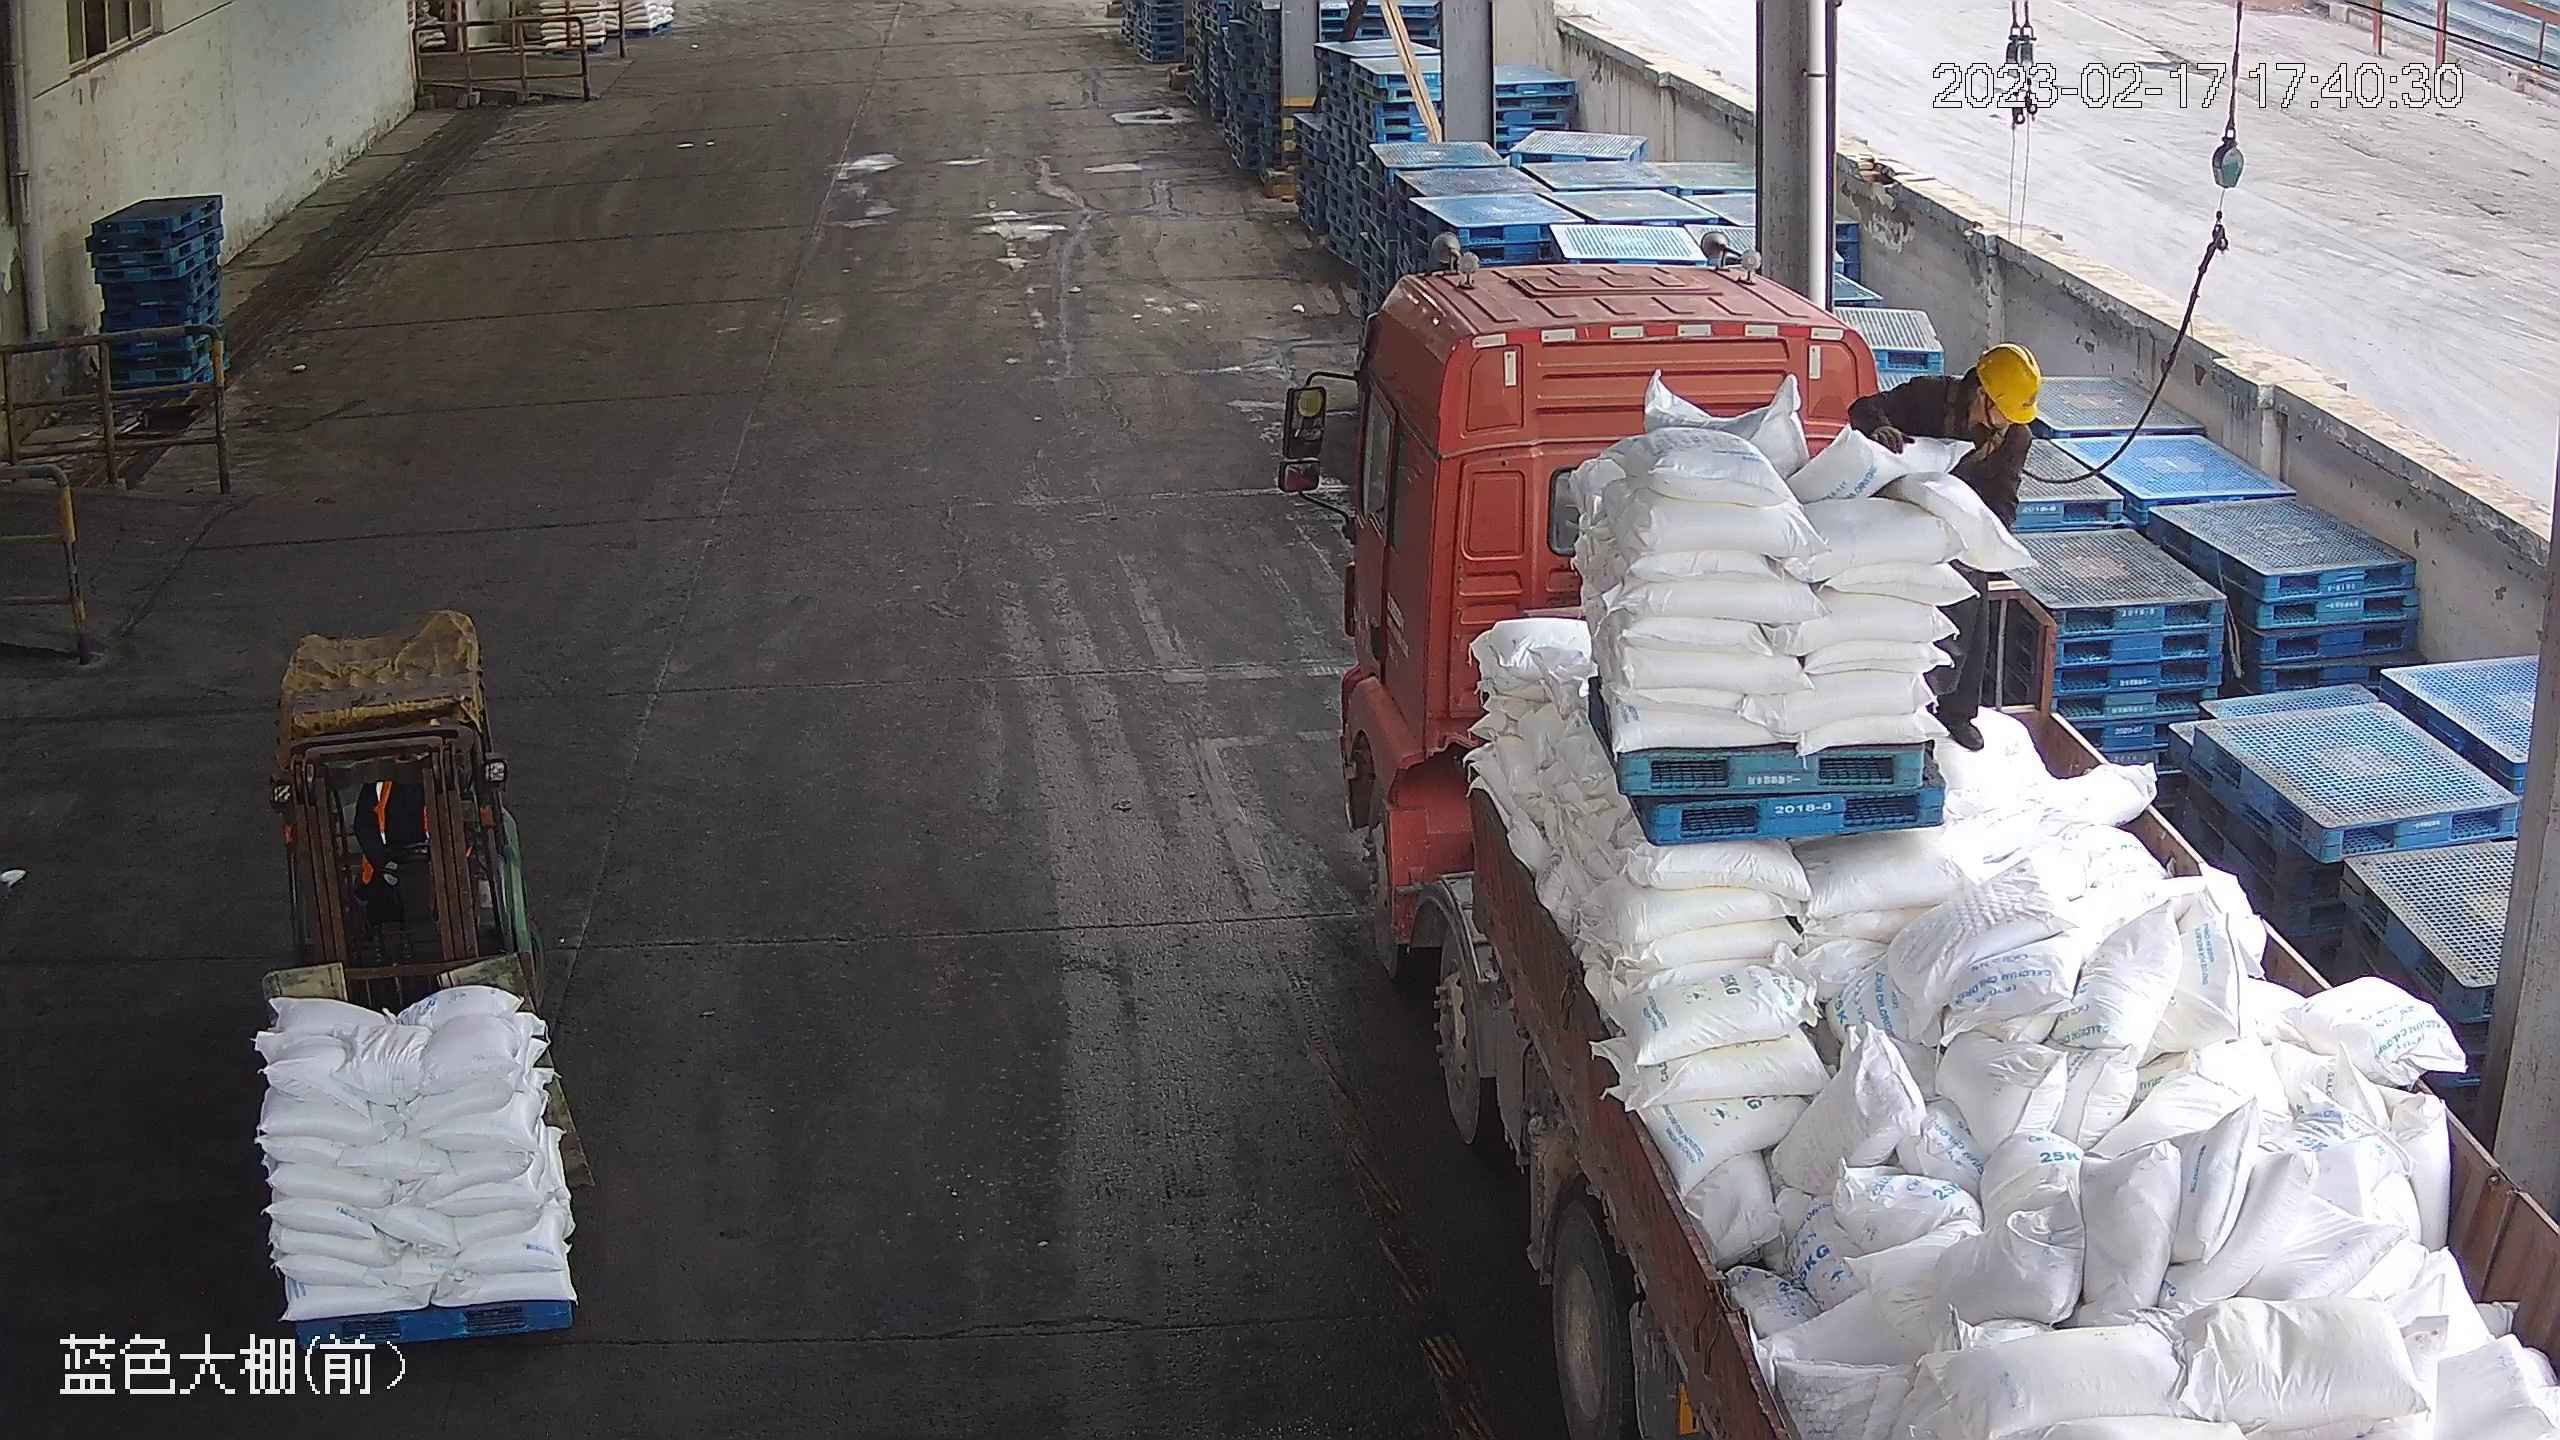belt: (1935, 386, 2000, 460)
head: (1883, 341, 2042, 468)
helmet: (1971, 342, 2043, 424)
people: (1845, 339, 2044, 764)
truck: (1269, 244, 2558, 1439)
